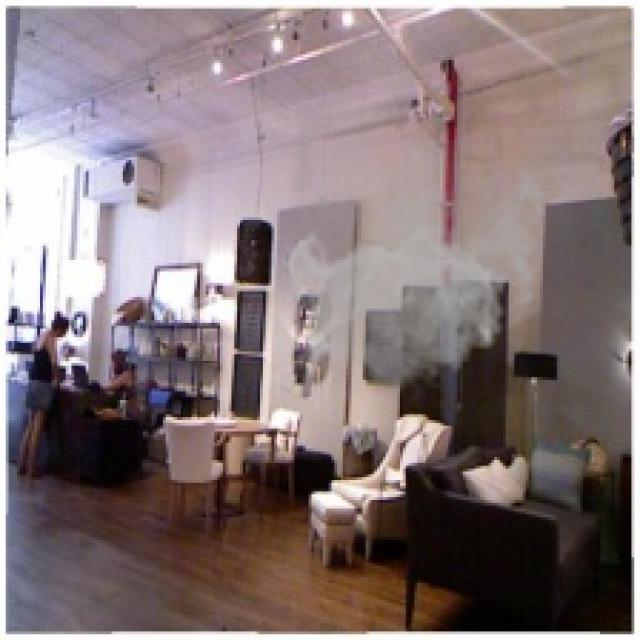smoke: (280, 140, 554, 409)
